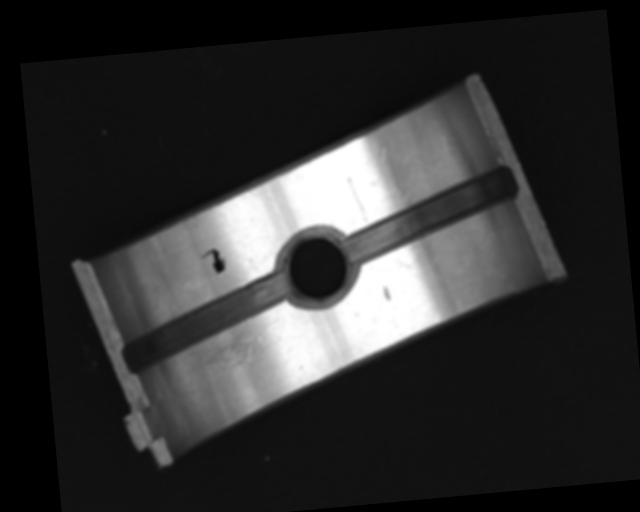blot: (199, 247, 227, 276)
bruise: (381, 284, 392, 302)
gap: (116, 271, 295, 373), (338, 167, 521, 265)
hole: (274, 224, 359, 308)
nick: (347, 175, 369, 224)
scratch: (172, 314, 282, 374)
